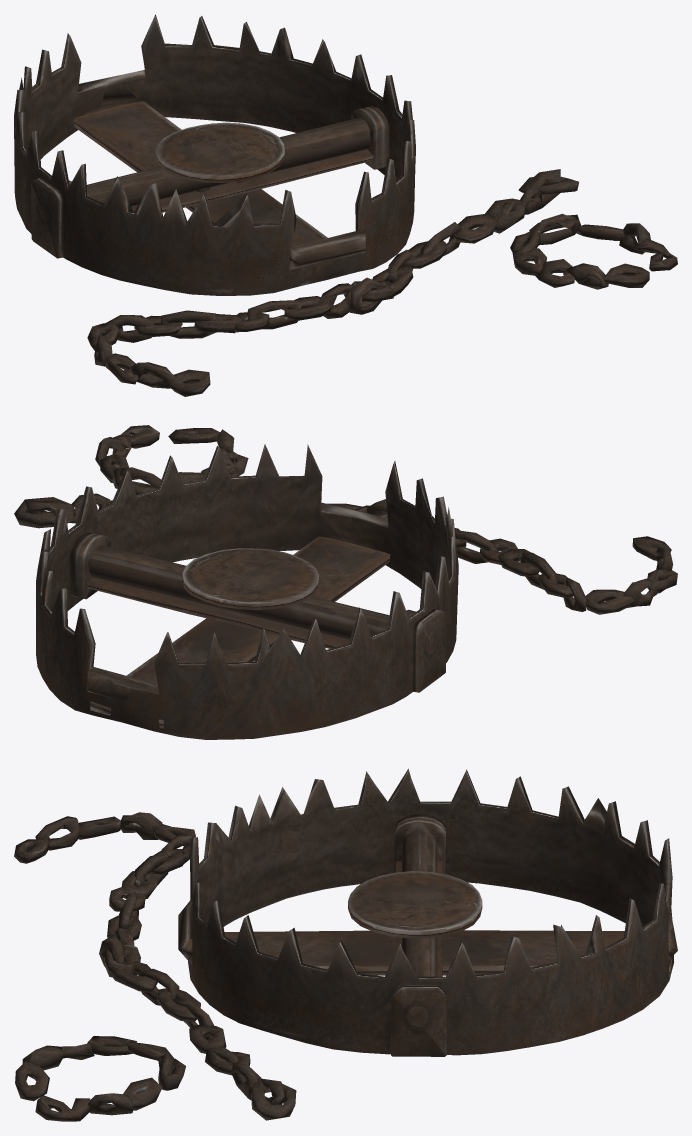
3 renders of one model, top to bottom at view 1: azimuth 30°, elevation 25°; view 2: azimuth 150°, elevation 25°; view 3: azimuth 270°, elevation 25°, orthographic. The views are drawn at different scales.
Bounding box in the file's own units: 1 × 0.1887 × 0.9773.
1 material, 1 textured.
